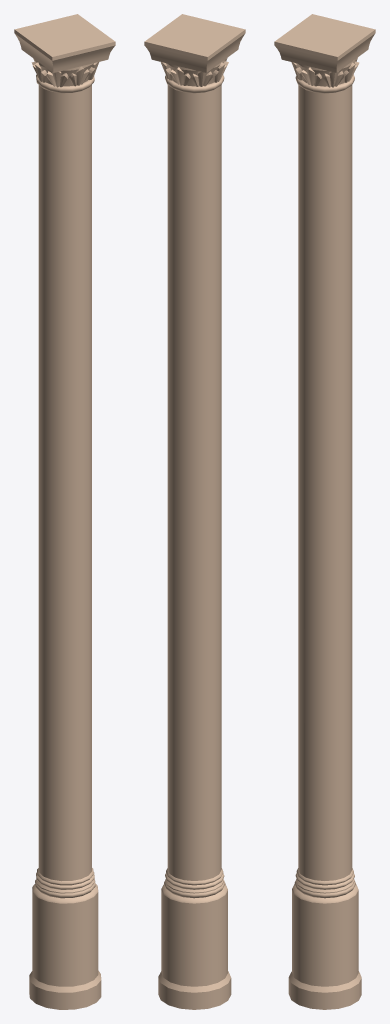
File: BC_InsidePillar_C.fbx
3 views of the same model, side by side, from view 1: azimuth 30°, elevation 25°; view 2: azimuth 150°, elevation 25°; view 3: azimuth 330°, elevation 25° (orthographic).
Visible parts, largest first — view 1: BC_InsidePillar_C; view 2: BC_InsidePillar_C; view 3: BC_InsidePillar_C.
Part boxes in pixels (x1=…): BC_InsidePillar_C: x1=14, y1=14, x2=115, y2=1009; BC_InsidePillar_C: x1=144, y1=14, x2=245, y2=1009; BC_InsidePillar_C: x1=274, y1=14, x2=375, y2=1009.
Size of the model in its own units: 148 by 2143 by 153.
